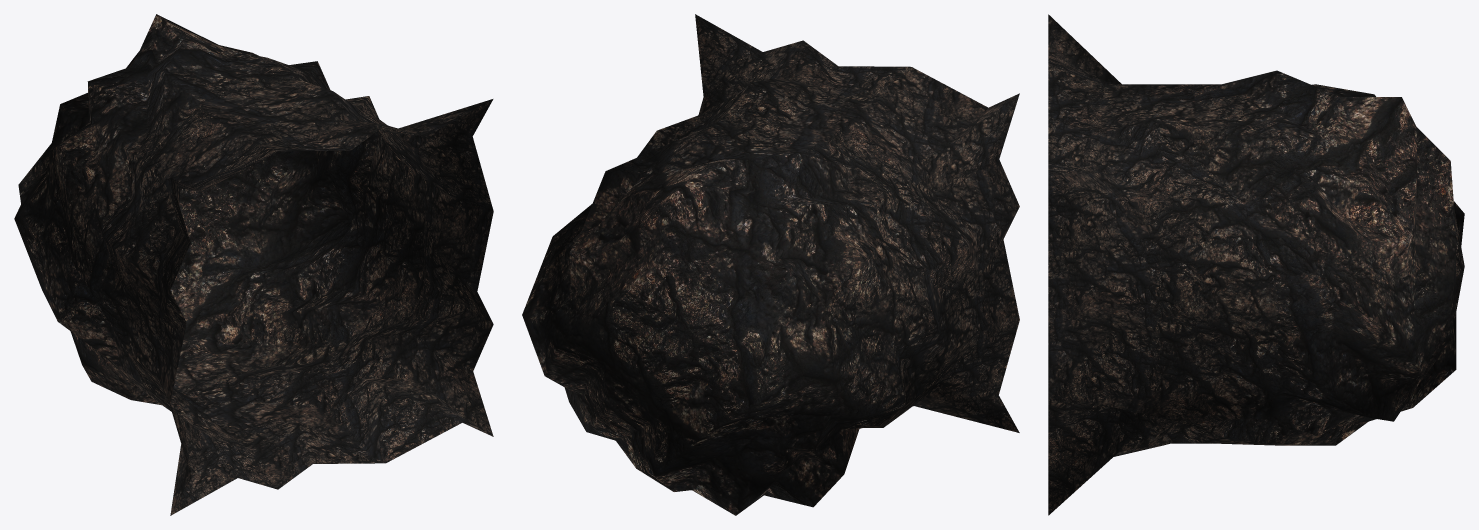
The model's file is Level Piece - Dead End.FBX.
3 views of the same model, side by side, from view 1: azimuth 30°, elevation 25°; view 2: azimuth 150°, elevation 25°; view 3: azimuth 270°, elevation 25° (orthographic).
Visible parts, largest first — view 1: End001; view 2: End001; view 3: End001.
Part boxes in pixels (<box>): End001: <box>14,14,493,515</box>; End001: <box>522,14,1019,515</box>; End001: <box>1048,14,1464,515</box>.
Bounding box in the file's own units: 209 × 230 × 209.
Materials: 1 (1 with a texture image).
